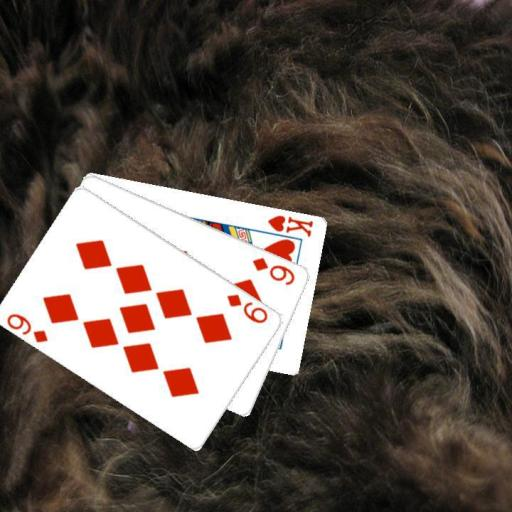6D: (250, 254, 297, 286)
9D: (224, 290, 270, 325), (4, 310, 50, 344)
KH: (265, 211, 315, 238)
